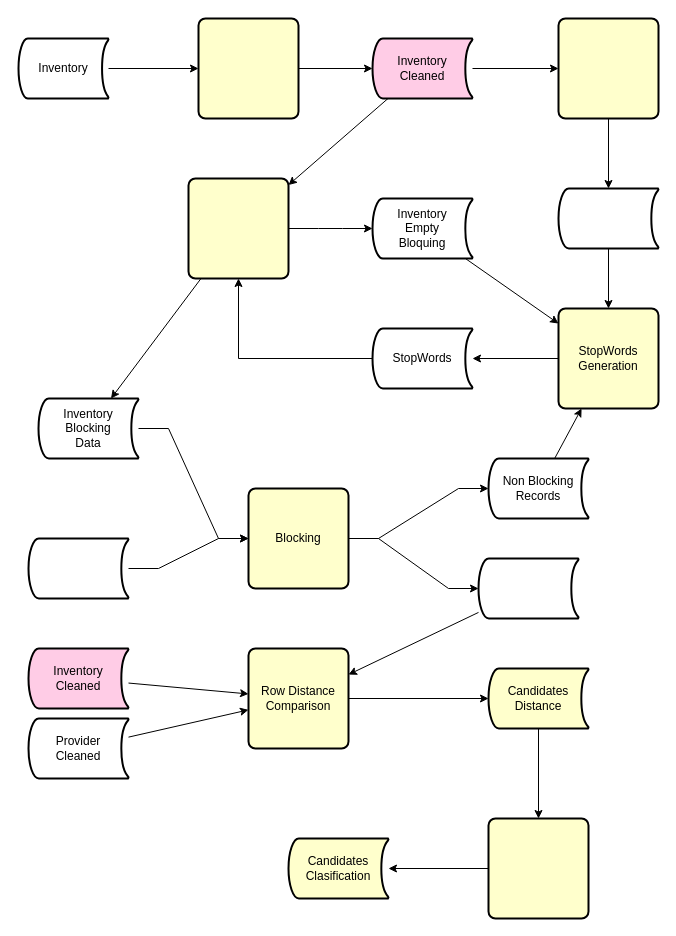
Some shapes in this 676 by 936 pixel diagram are drawn without their labels. Each missing label, with the centre of its shape:
"Bloquing Data Generation" belongs at (x=238, y=228).
"Candidate Records" belongs at (x=528, y=588).
"Clean" belongs at (x=248, y=68).
"ML" belongs at (x=538, y=868).
"Name Stats" belongs at (x=608, y=68).
"Provder Blocking Data" belongs at (x=78, y=568).
"Word Stats" belongs at (x=608, y=218).
